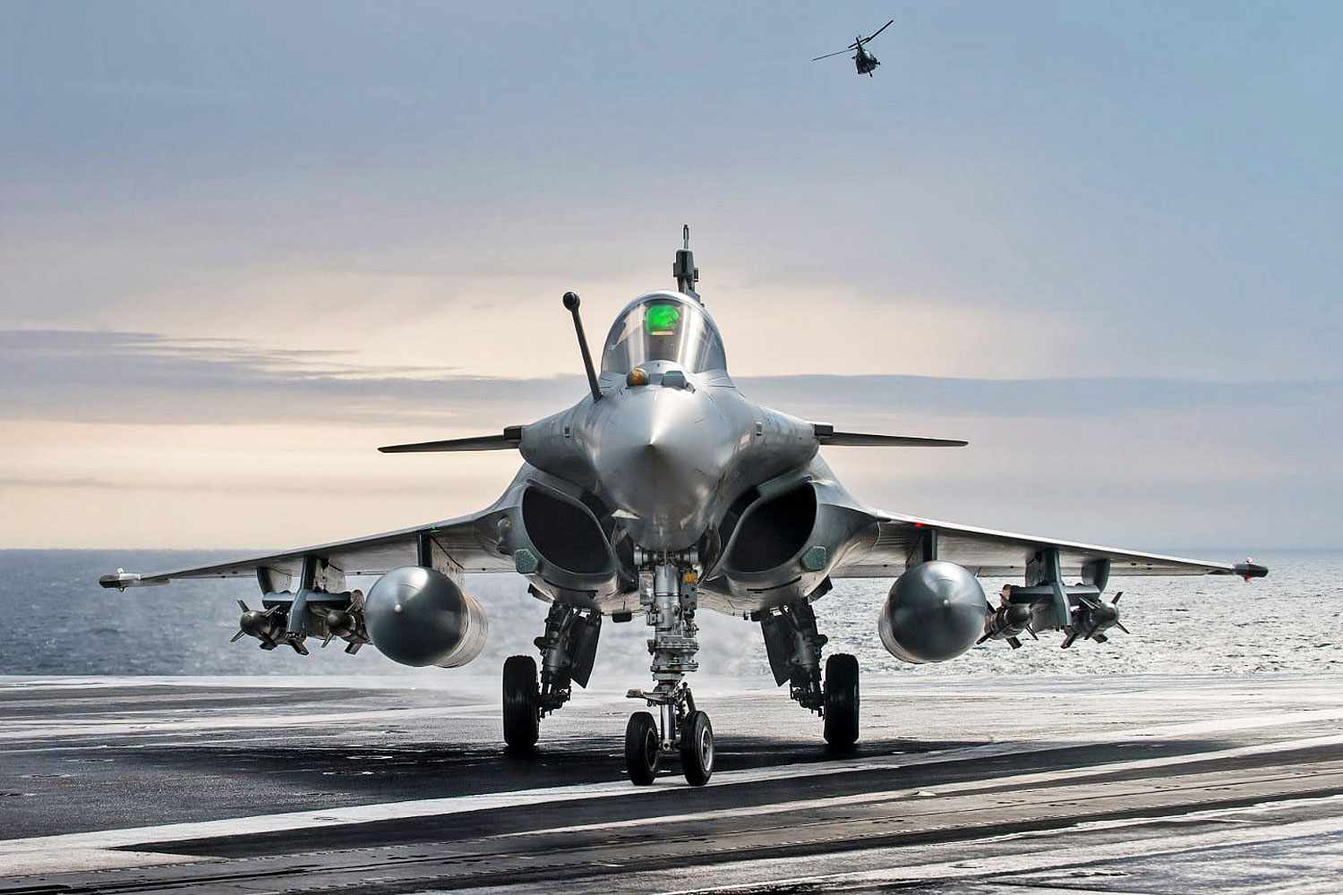Rafale: (94, 213, 1276, 792)
